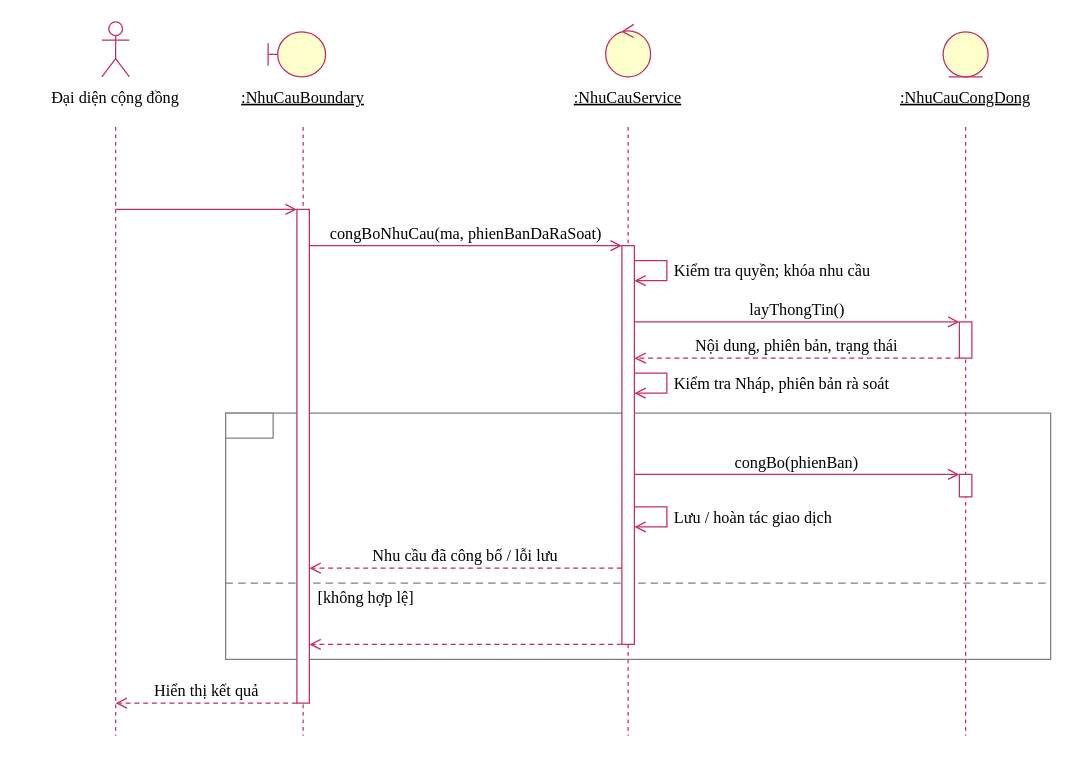
The diagram is 1080 pixels wide and 759 high, and some of its shapes have lost their labels. Each missing label, with the centre of its shape:
"[hợp lệ]" goes at pixel 354 426.
"alt" goes at pixel 248 425.
"Rà soát nội dung, nhấn Công bố" goes at pixel 205 186.
"Thông báo lý do từ chối" goes at pixel 465 630.
